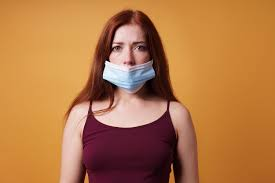mask_weared_incorrect: (102, 39, 156, 90)
